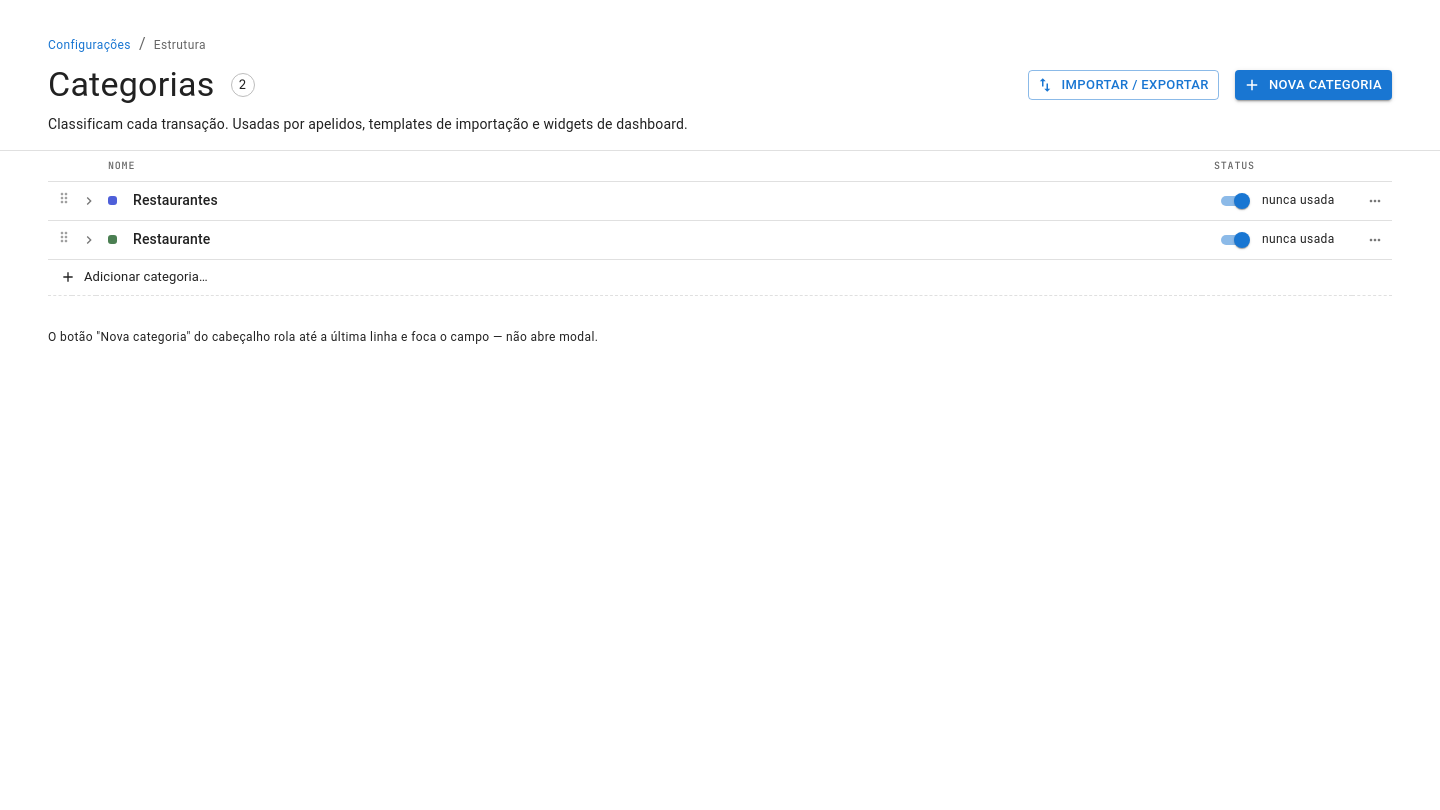
CategoriesManager › 'Mesclar' abre o MergeDialog com a linha de origem pré-selecionada em Absorver
Click the button named "Ações desta linha: Restaurantes".
click(1375, 200)  # box x1=1362 y1=188 x2=1388 y2=214
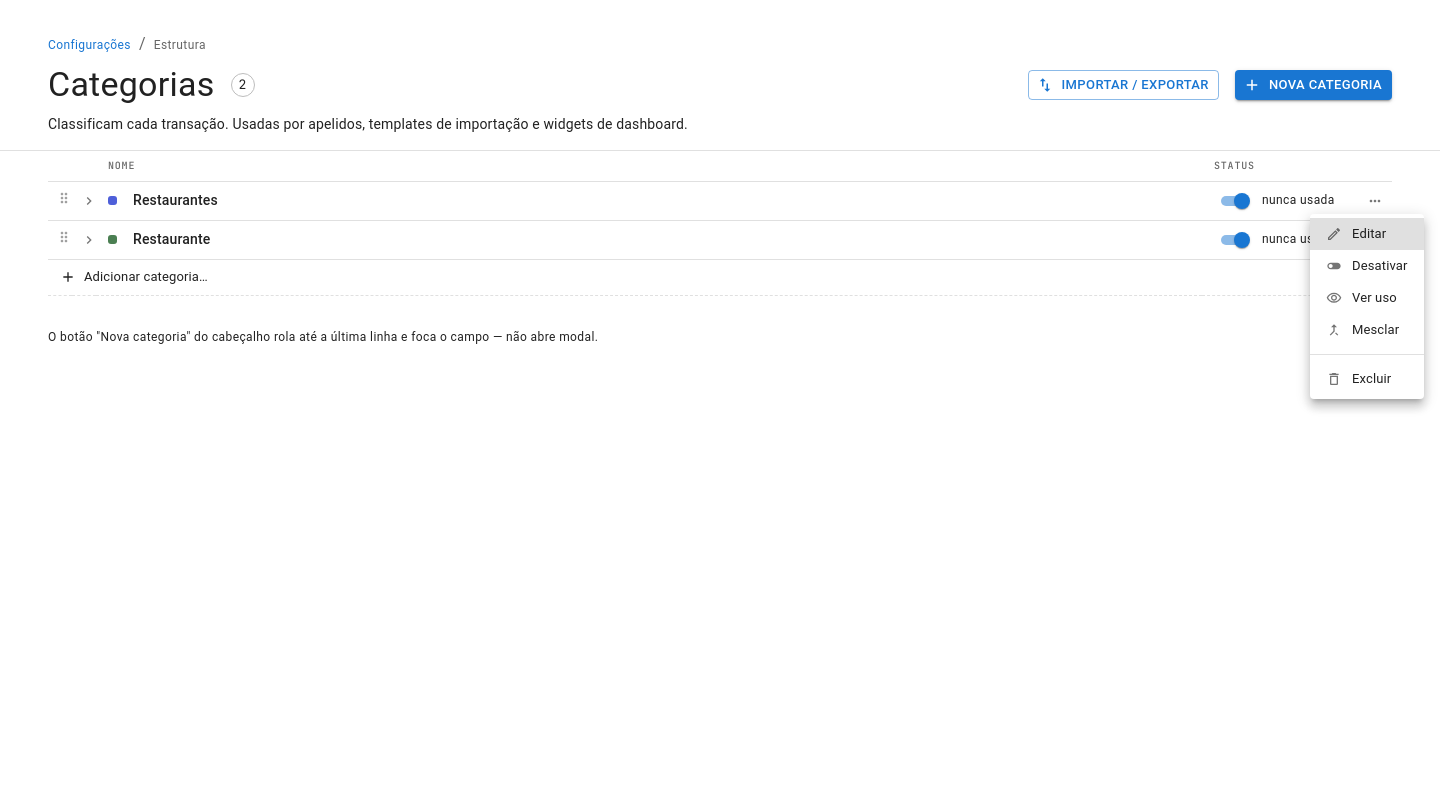
Click the menu item "Mesclar".
click(1363, 330)  # box x1=1326 y1=322 x2=1399 y2=338
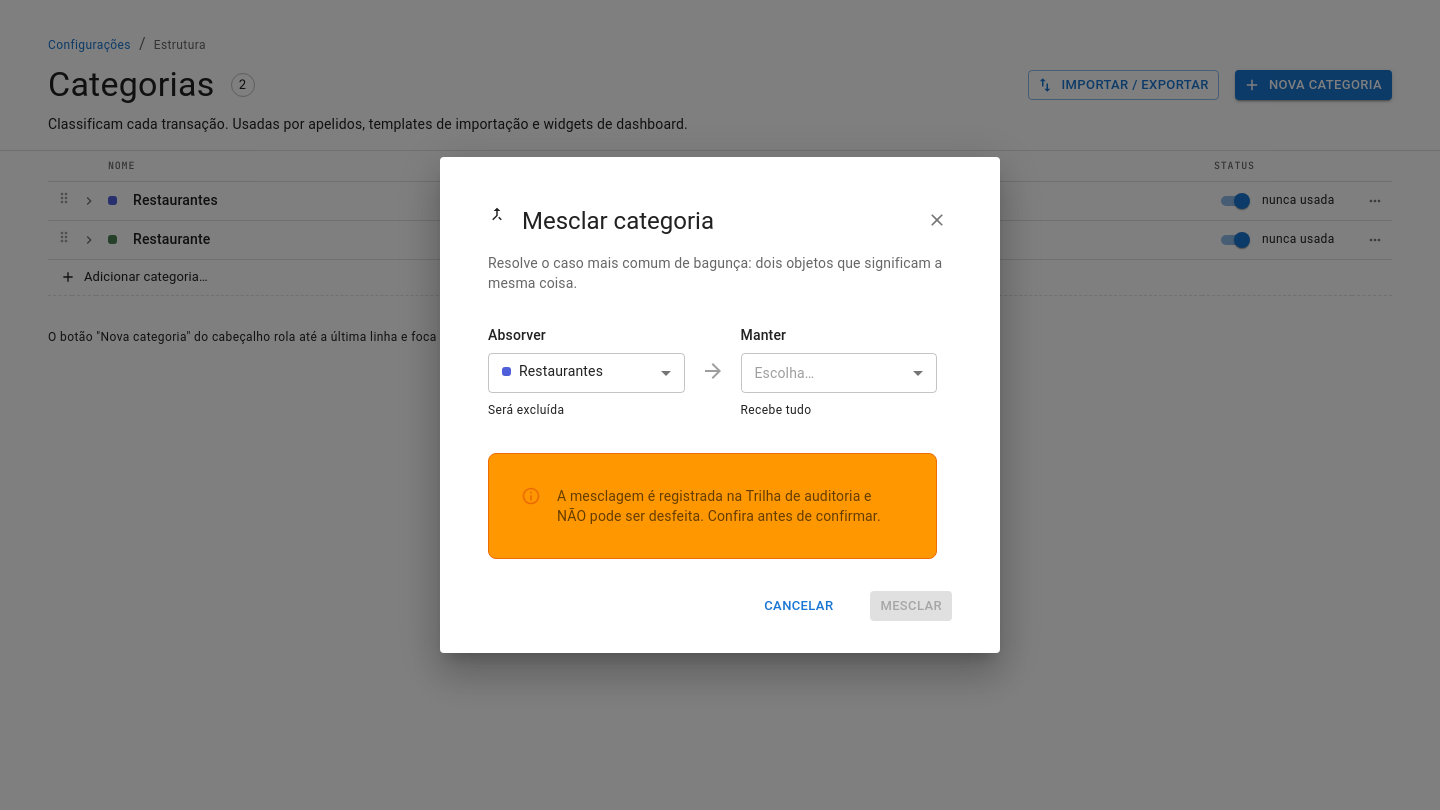
Expected: the dropdown named "Absorver" reads "Restaurantes", x1=502 y1=363 x2=603 y2=379
